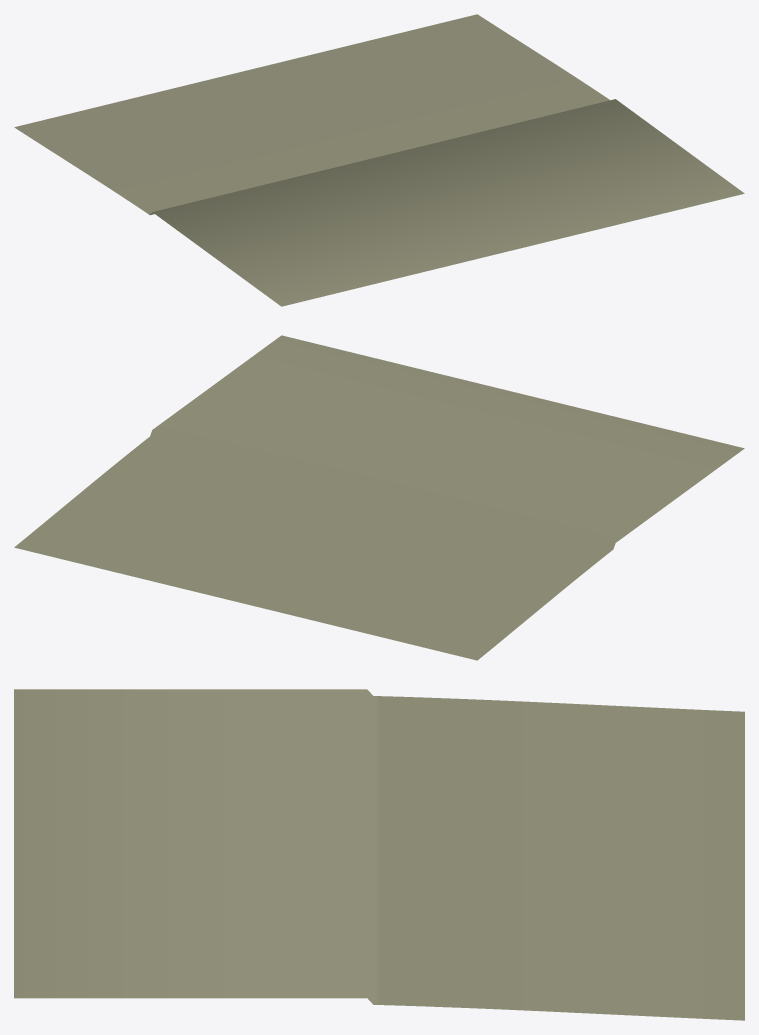
File: SM_VB_CityTerrain_4_2.fbx
3 renders of one model, top to bottom at view 1: azimuth 30°, elevation 25°; view 2: azimuth 150°, elevation 25°; view 3: azimuth 270°, elevation 25°, orthographic. The views are drawn at different scales.
Parts seen in each view (by area): view 1: SM_VB_CityTerrain_4_2; view 2: SM_VB_CityTerrain_4_2; view 3: SM_VB_CityTerrain_4_2.
Boxes of the visible parts, x1,y1,x2,y2 form: SM_VB_CityTerrain_4_2: (14,14,744,306); SM_VB_CityTerrain_4_2: (14,335,744,660); SM_VB_CityTerrain_4_2: (14,689,744,1020).
Bounding box in the file's own units: 600 × 20.29 × 600.
